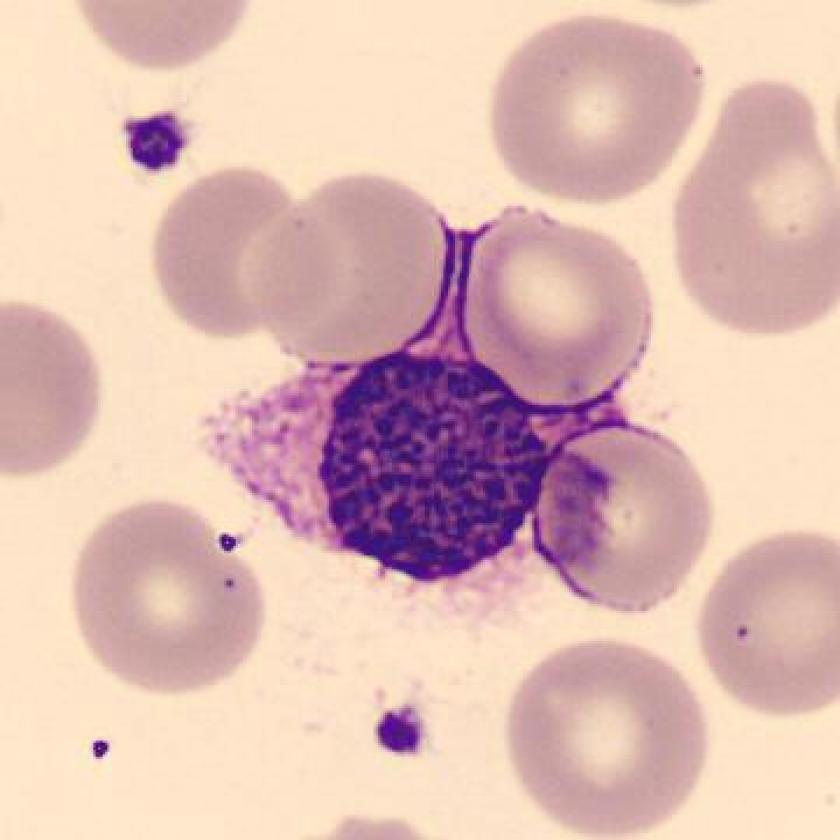basophil: (302, 344, 554, 598)
